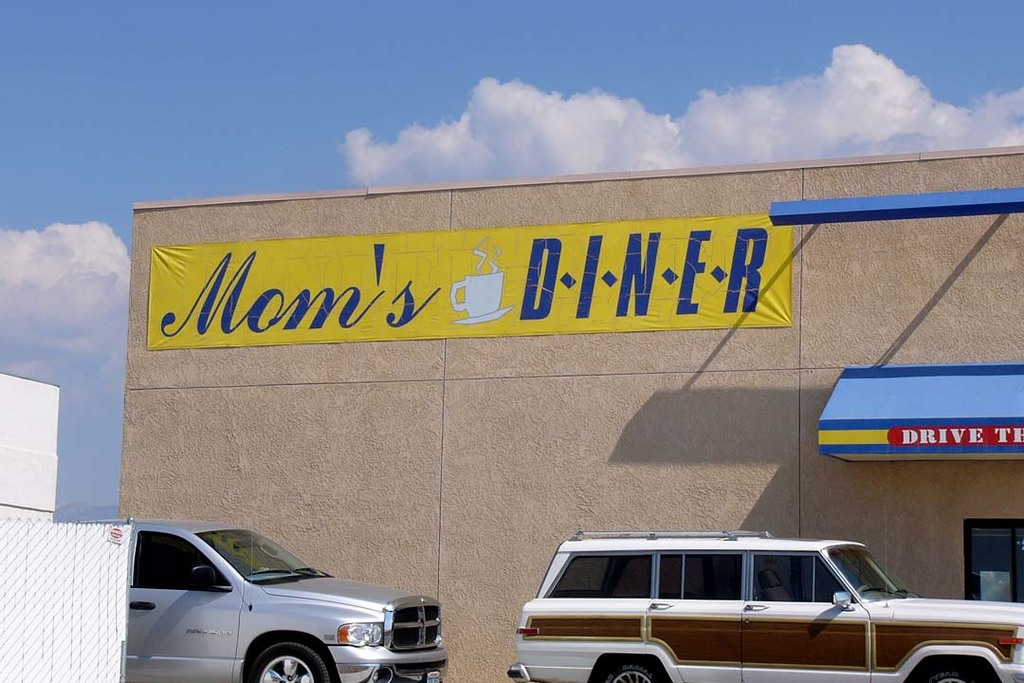Car: (506, 531, 1023, 682), (76, 511, 445, 682)
